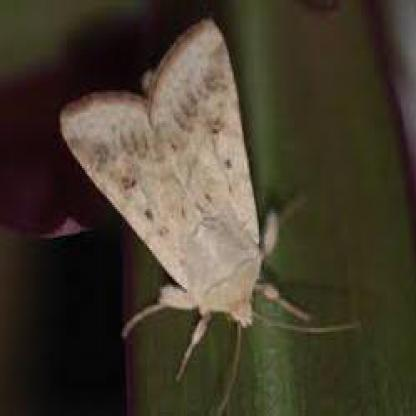helicoverpa: (62, 16, 262, 368)
